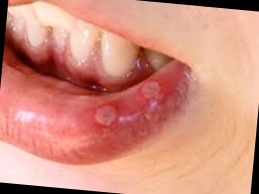Ulcer: (95, 100, 122, 127), (140, 80, 163, 100)
